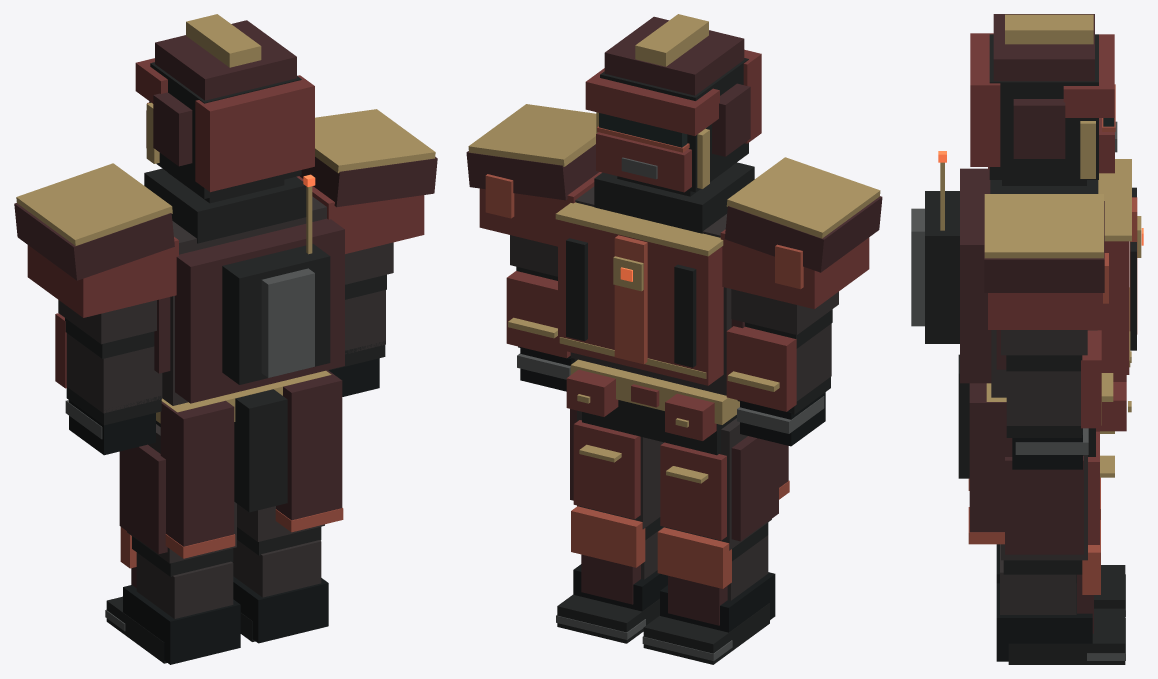
Rendered from warlord.glb.
3 views of the same model, side by side, from view 1: azimuth 30°, elevation 25°; view 2: azimuth 150°, elevation 25°; view 3: azimuth 270°, elevation 25° (orthographic). The views are drawn at different scales.
Parts seen in each view (by area): view 1: Merged_material (×21), pauldron raised wing L, command pack vertical plate, combat boot L, pauldron raised wing R, combat boot R, torso, glove L, glove R; view 2: Merged_material (×21), thigh plate R, thigh plate L, pauldron raised wing L, pauldron raised wing R, knee armor L, knee armor R, combat boot L, torso, glove L, combat boot R, helmet face visor (+7 smaller); view 3: Merged_material (×17), pauldron raised wing R, combat boot R, command pack vertical plate, glove R, thigh plate R, knuckle guard R, knee armor R, torso.
Part boxes in pixels (bbox=[...]): Merged_material (×21): bbox=[16, 14, 435, 663]; pauldron raised wing L: bbox=[14, 203, 174, 280]; command pack vertical plate: bbox=[261, 268, 314, 377]; combat boot L: bbox=[123, 585, 240, 664]; pauldron raised wing R: bbox=[299, 157, 437, 207]; combat boot R: bbox=[233, 576, 328, 643]; torso: bbox=[162, 196, 326, 405]; glove L: bbox=[69, 400, 155, 455]; glove R: bbox=[329, 358, 379, 396]; Merged_material (×21): bbox=[468, 14, 880, 664]; thigh plate R: bbox=[573, 420, 640, 519]; thigh plate L: bbox=[660, 442, 726, 540]; pauldron raised wing L: bbox=[724, 196, 882, 272]; pauldron raised wing R: bbox=[466, 144, 599, 200]; knee armor L: bbox=[657, 527, 731, 588]; knee armor R: bbox=[571, 506, 645, 567]; combat boot L: bbox=[660, 572, 775, 632]; torso: bbox=[570, 186, 731, 395]; glove L: bbox=[740, 392, 825, 446]; combat boot R: bbox=[573, 564, 667, 611]; helmet face visor: bbox=[599, 113, 687, 147]; Merged_material (×17): bbox=[925, 14, 1141, 664]; pauldron raised wing R: bbox=[984, 201, 1104, 292]; combat boot R: bbox=[996, 583, 1092, 661]; command pack vertical plate: bbox=[911, 208, 924, 326]; glove R: bbox=[1012, 428, 1082, 469]; thigh plate R: bbox=[1088, 431, 1099, 544]; knuckle guard R: bbox=[1015, 428, 1088, 454]; knee armor R: bbox=[1082, 520, 1100, 594]; torso: bbox=[991, 330, 1097, 397].
Bounding box in the file's own units: 1.32 × 2.07 × 0.721.
